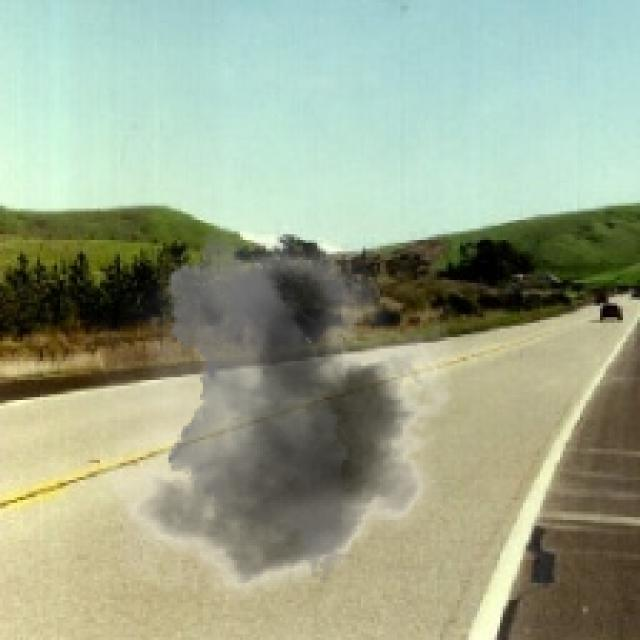smoke: (57, 226, 474, 617)
